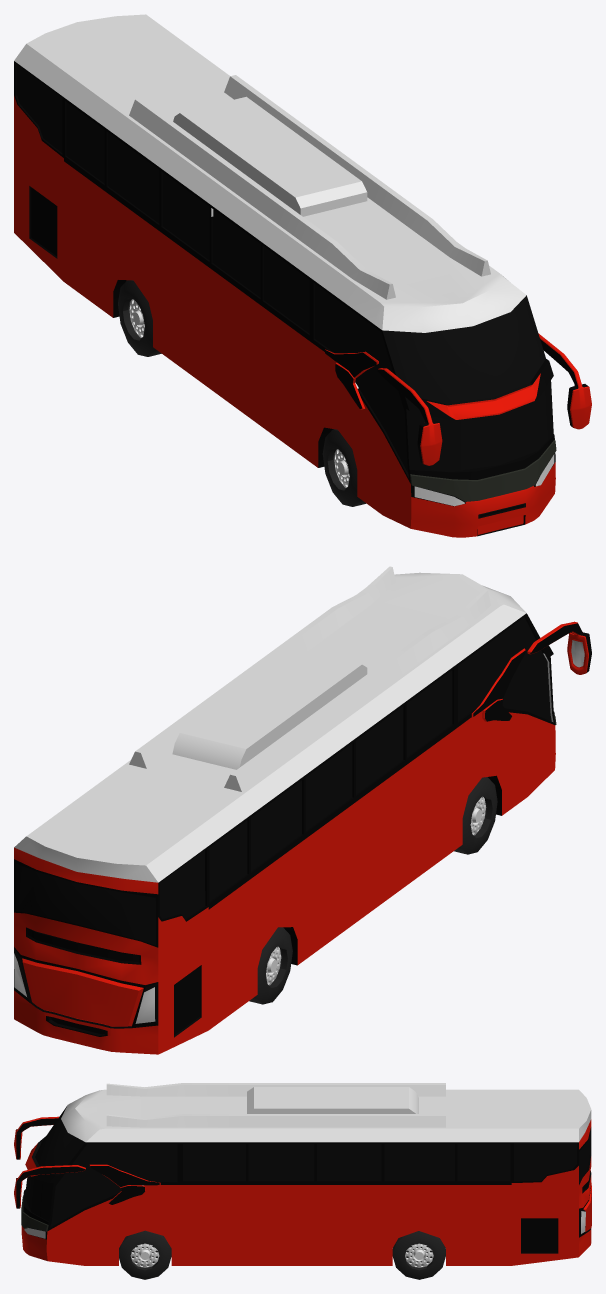
The model's file is bus.gltf.
3 views of the same model, one above another, from view 1: azimuth 30°, elevation 25°; view 2: azimuth 150°, elevation 25°; view 3: azimuth 270°, elevation 25° (orthographic). The views are drawn at different scales.
Visible parts, largest first — view 1: body_bus; view 2: body_bus; view 3: body_bus.
Part boxes in pixels (x1,y1,x2,y2): body_bus: (14, 14, 591, 537); body_bus: (14, 566, 591, 1054); body_bus: (14, 1083, 591, 1279).
Bounding box in the file's own units: 3.66 × 4.87 × 15.95.
